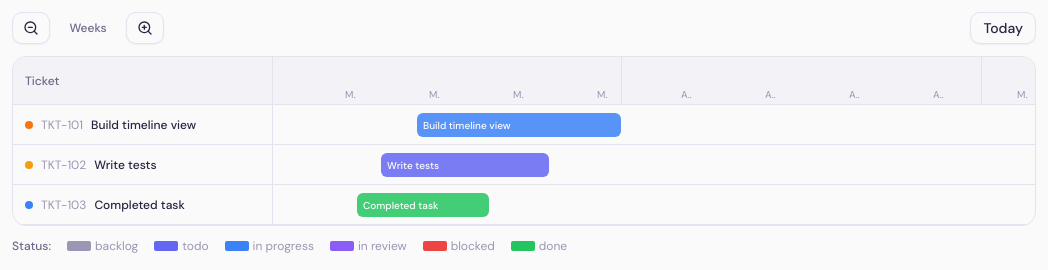
Scenario: TicketTimeline › zooms in when clicking zoom in button
This screenshot has width=1048, height=270.
Click the button with test id "timeline-zoom-in": [145, 28] box [126,12,164,44]
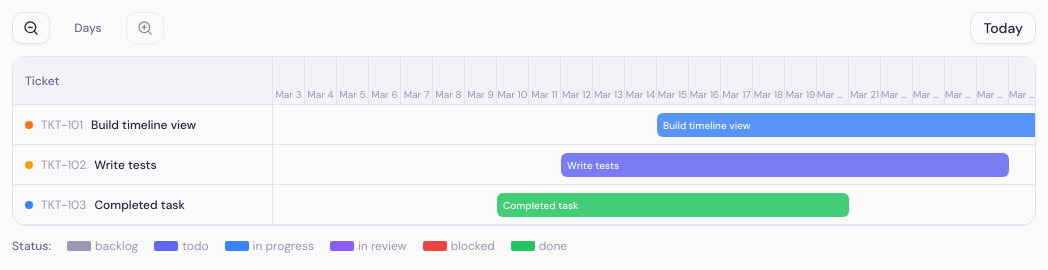
Expected: the text with test id "timeline-zoom-level" reads "Days", [74,20,102,36]
